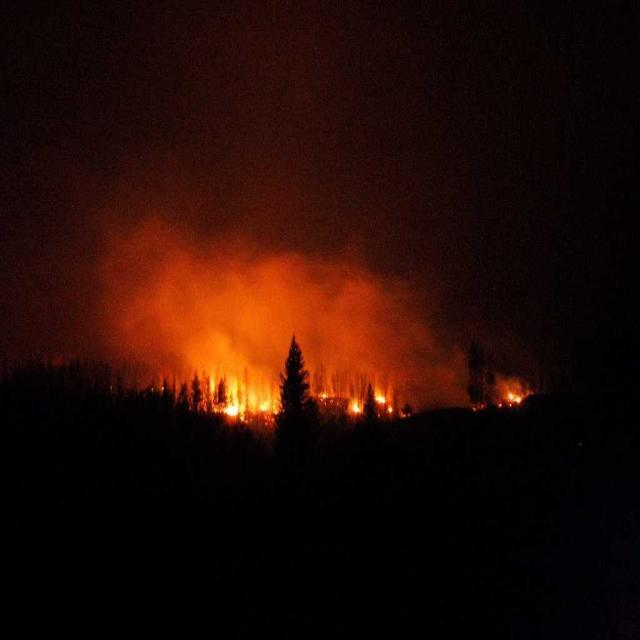Fire: (220, 396, 248, 414), (376, 387, 395, 405), (259, 392, 270, 410)
Smoke: (170, 245, 375, 315)
